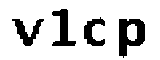1: (48, 8, 79, 49)
c: (82, 17, 109, 48)
p: (115, 15, 149, 60)
v: (8, 15, 43, 47)
